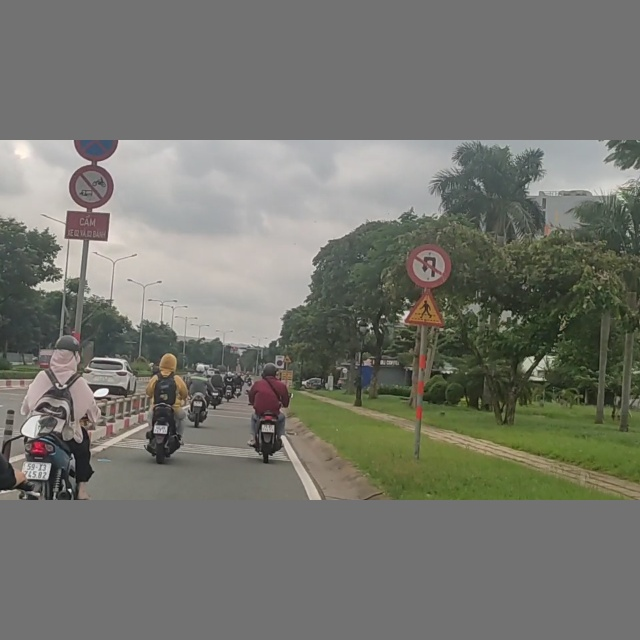P.111: (69, 165, 115, 208)
P.124a*: (407, 243, 451, 288)
P.130: (75, 141, 119, 161), (277, 360, 283, 366)
W.224: (405, 290, 445, 327)
